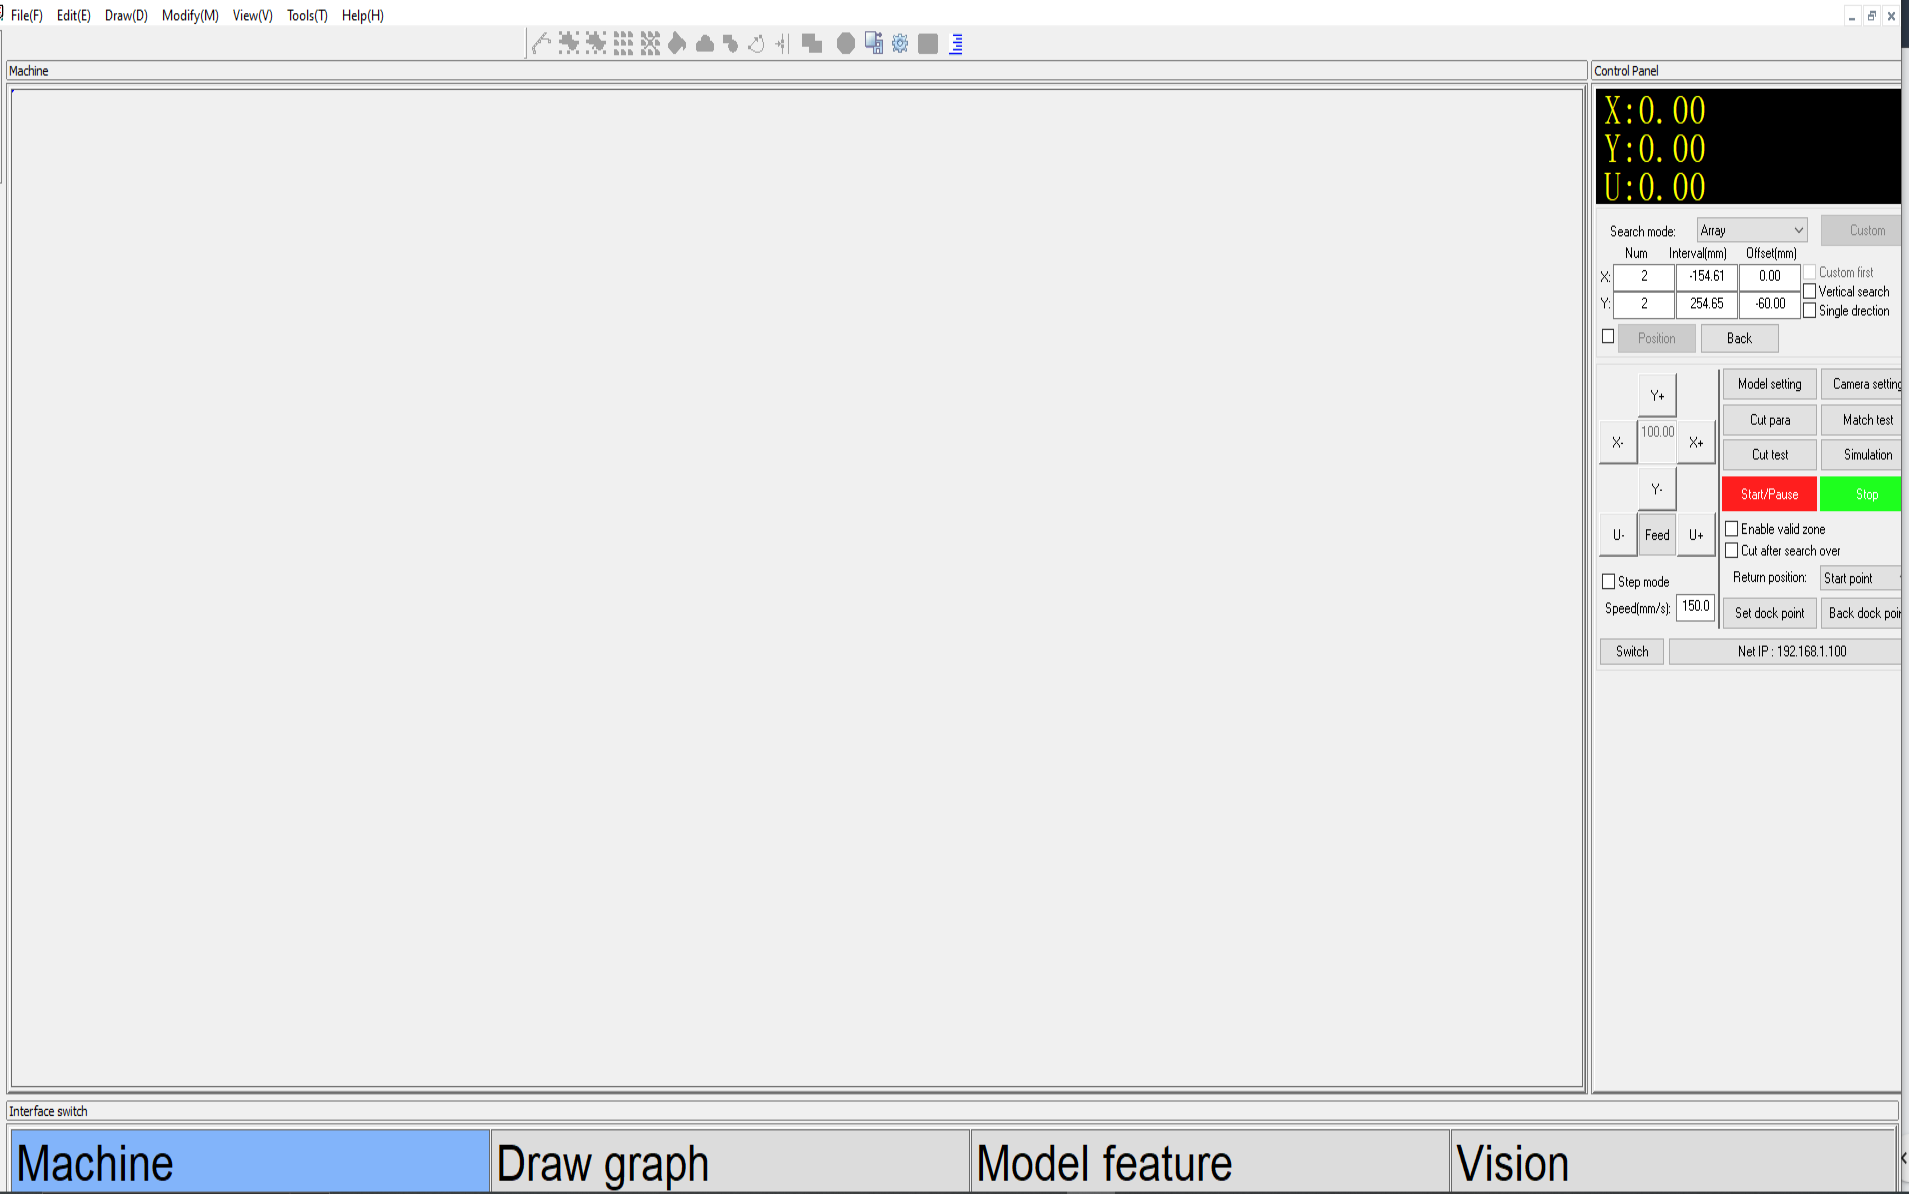start: (1722, 477, 1815, 510)
timer: (1737, 241, 1800, 319)
